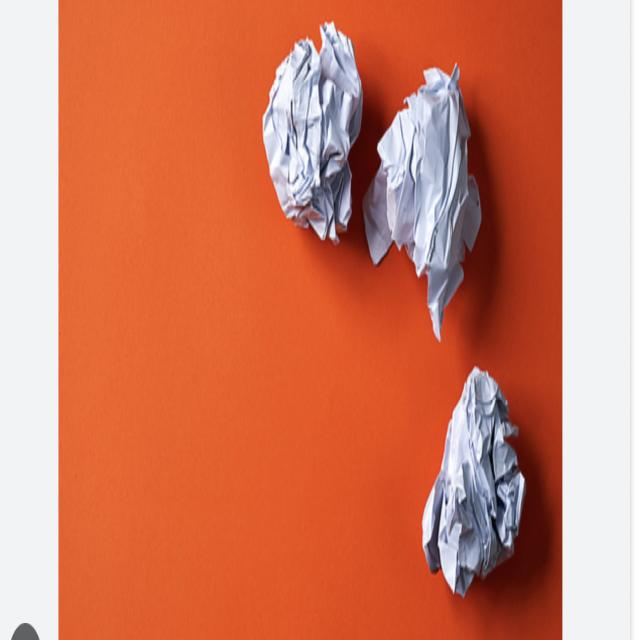biodegradable: (367, 42, 485, 353), (417, 360, 528, 603), (263, 14, 364, 256)
